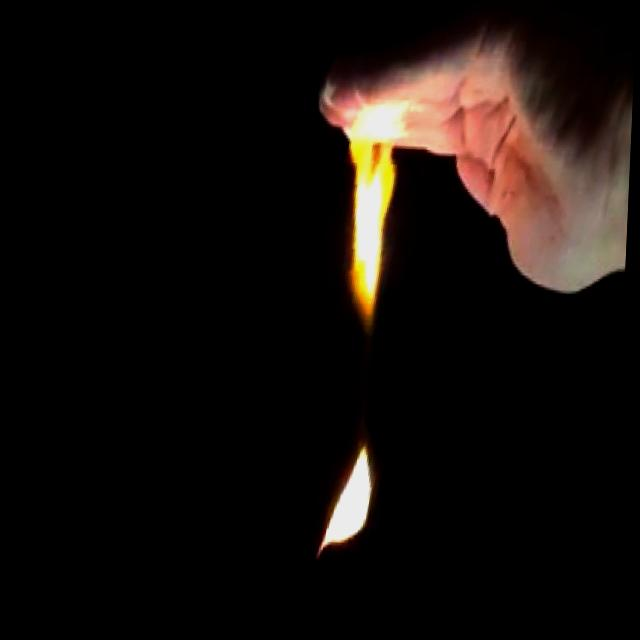no_helmet: (316, 99, 425, 349)
